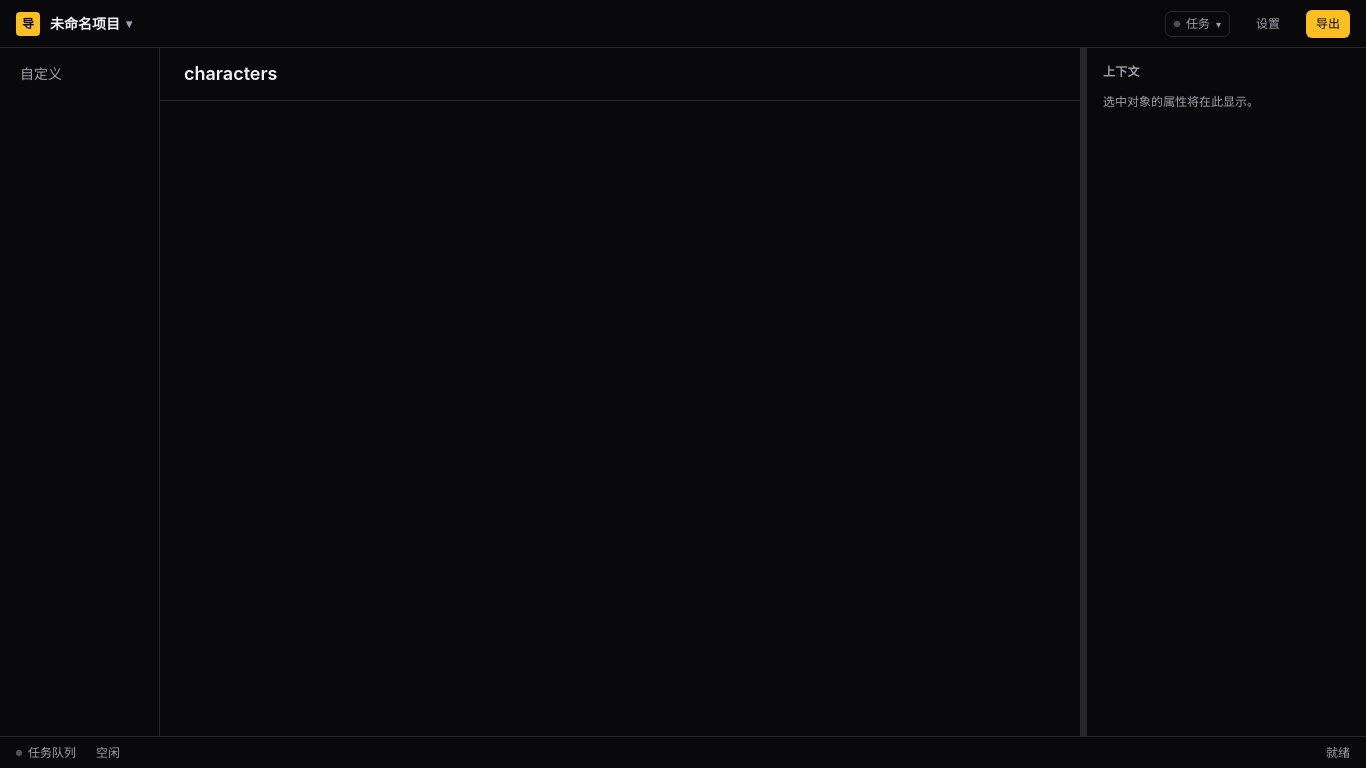
Test case: app shell › renders nav modules from the plugin registry and mounts the plugin component
This screenshot has width=1366, height=768.
Click the button "自定义".
click(80, 74)  # box [8, 56, 151, 92]
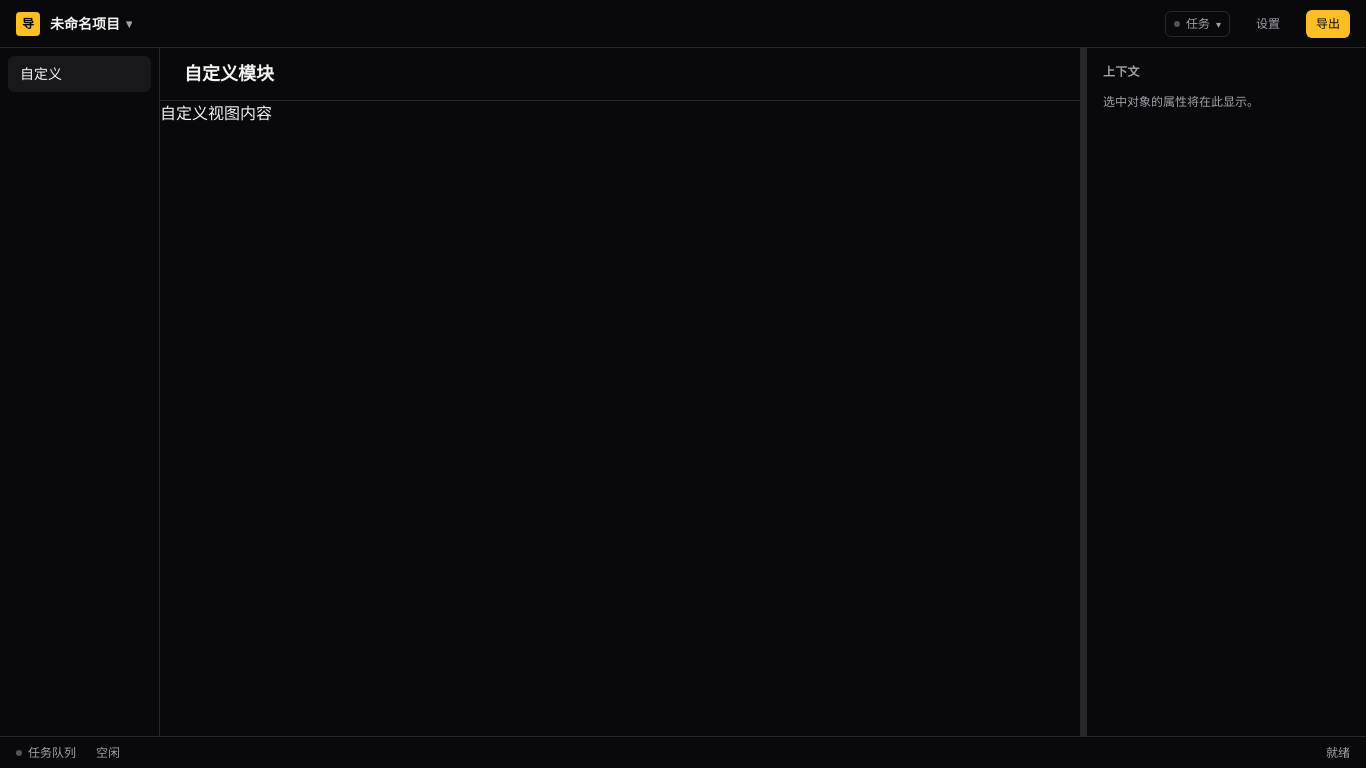
Result: the text with test id "custom-view" reads "自定义视图内容" at [160, 103, 272, 123]
Result: the text "自定义模块" is shown at [184, 60, 274, 88]
